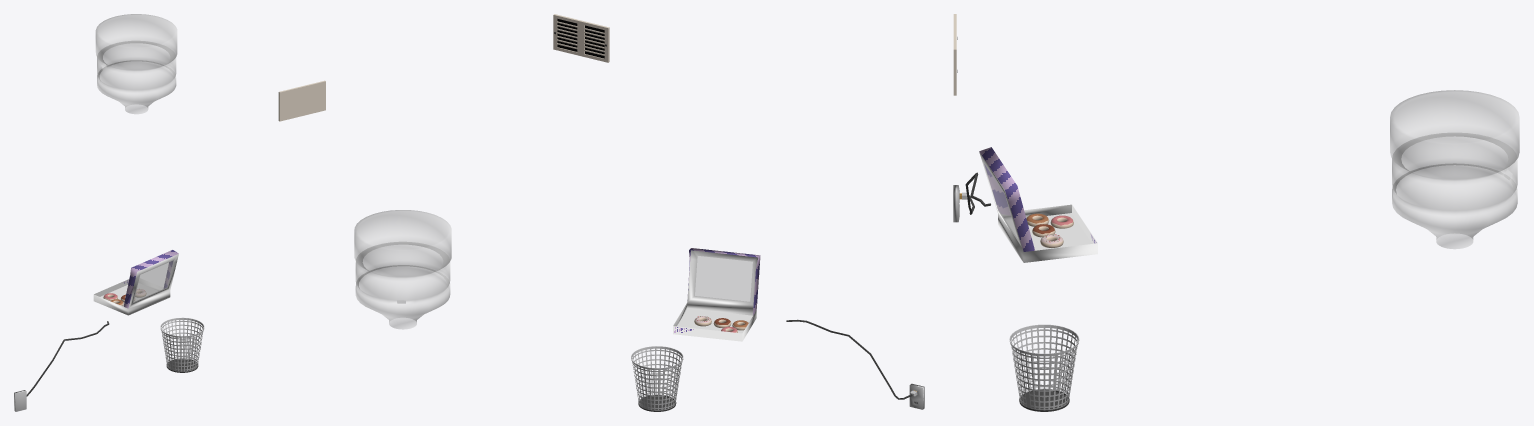
File: OfficeItems.glb
3 renders of one model, left to right at view 1: azimuth 30°, elevation 25°; view 2: azimuth 150°, elevation 25°; view 3: azimuth 270°, elevation 25°, orthographic. The views are drawn at different scales.
Parts seen in each view (by area): view 1: WaterTank.001, DoughnutBox, trashBin, vent; view 2: WaterTank.001, DoughnutBox, trashBin, vent; view 3: WaterTank.001, DoughnutBox, trashBin.
Boxes of the visible parts, x1,y1,x2,y2 form: WaterTank.001: [95, 14, 177, 113]; DoughnutBox: [93, 250, 178, 315]; trashBin: [160, 317, 204, 372]; vent: [278, 80, 325, 121]; WaterTank.001: [354, 210, 451, 329]; DoughnutBox: [673, 248, 760, 341]; trashBin: [631, 346, 683, 411]; vent: [553, 14, 609, 62]; WaterTank.001: [1390, 90, 1519, 248]; DoughnutBox: [979, 147, 1097, 262]; trashBin: [1009, 324, 1079, 411].
Size of the model in its own units: 3 by 2.53 by 2.95.
6 materials, 4 textured.
